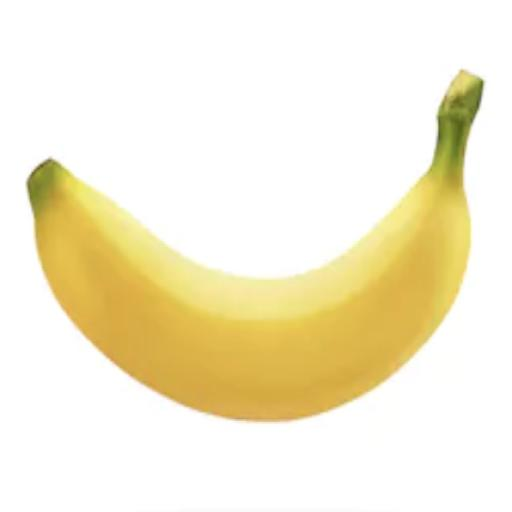banana: (28, 72, 483, 420)
